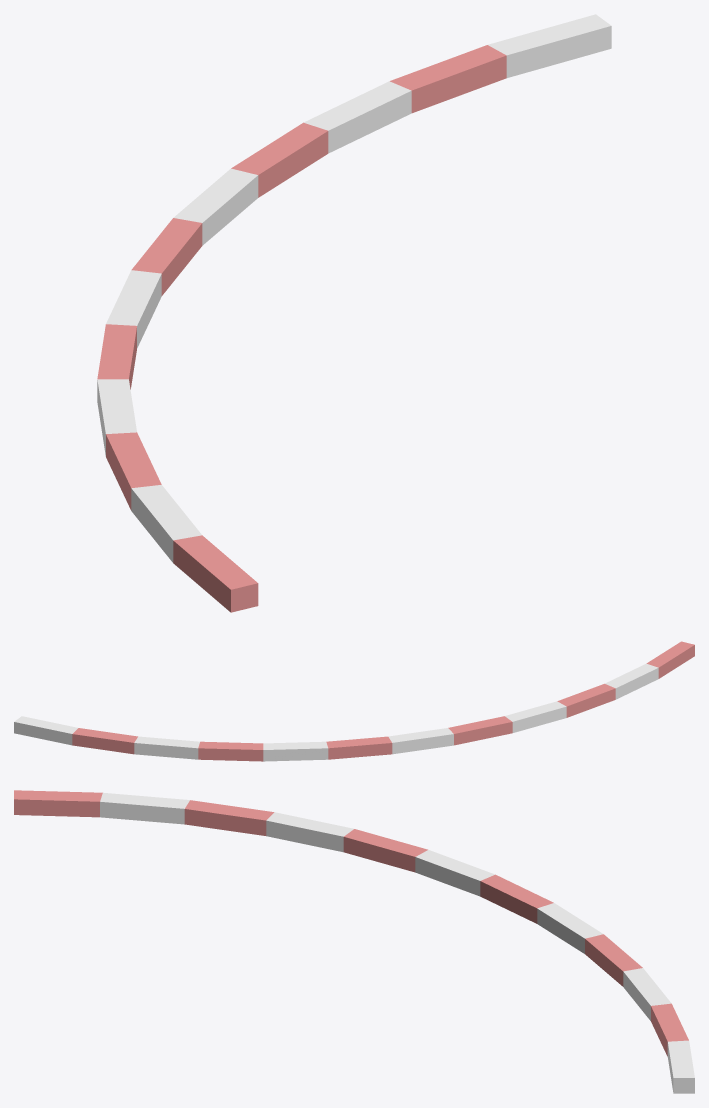
The model's file is roadCornerSmallWall.glb.
3 views of the same model, one above another, from view 1: azimuth 30°, elevation 25°; view 2: azimuth 150°, elevation 25°; view 3: azimuth 270°, elevation 25° (orthographic). The views are drawn at different scales.
Parts seen in each view (by area): view 1: roadCornerSmallWall; view 2: roadCornerSmallWall; view 3: roadCornerSmallWall.
Part boxes in pixels (bbox=[...]): roadCornerSmallWall: bbox=[97, 14, 611, 612]; roadCornerSmallWall: bbox=[14, 641, 694, 761]; roadCornerSmallWall: bbox=[14, 790, 694, 1093].
Size of the model in its own units: 2.33 by 0.059 by 2.33.
